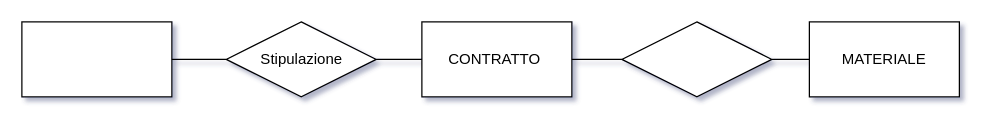
This 989x126 diagram has some shape labels left out. Each missing label, with the centre of its shape:
"Categorizzazione" belongs at pixel 696 59.
"PERSONA" belongs at pixel 96 59.
